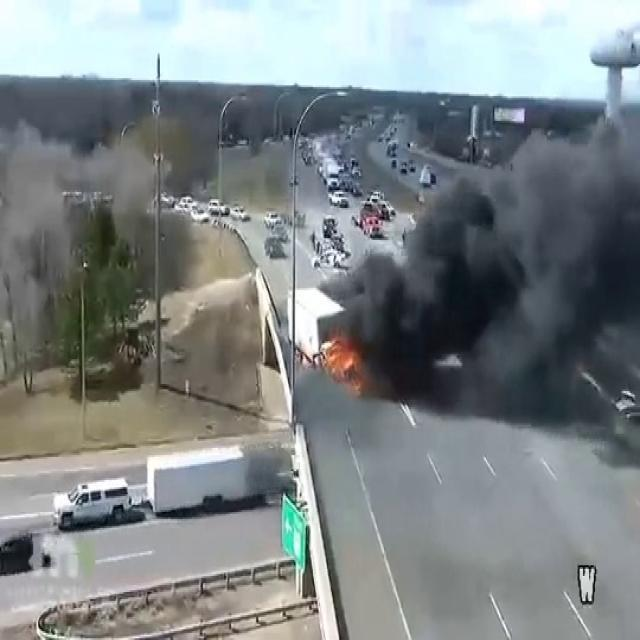Fire: (310, 326, 360, 379)
Smoke: (342, 41, 640, 402), (0, 103, 83, 352), (92, 115, 164, 242)
